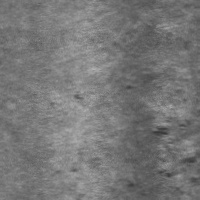rolled-in_scale: (146, 111, 200, 191)
